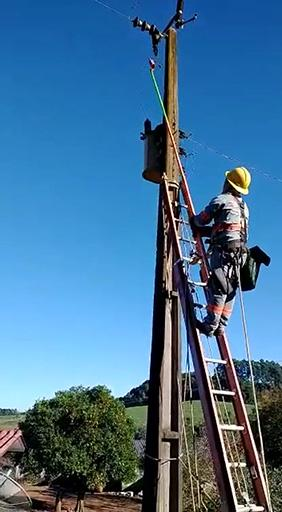Vara_Manobra: (147, 70, 212, 282)
